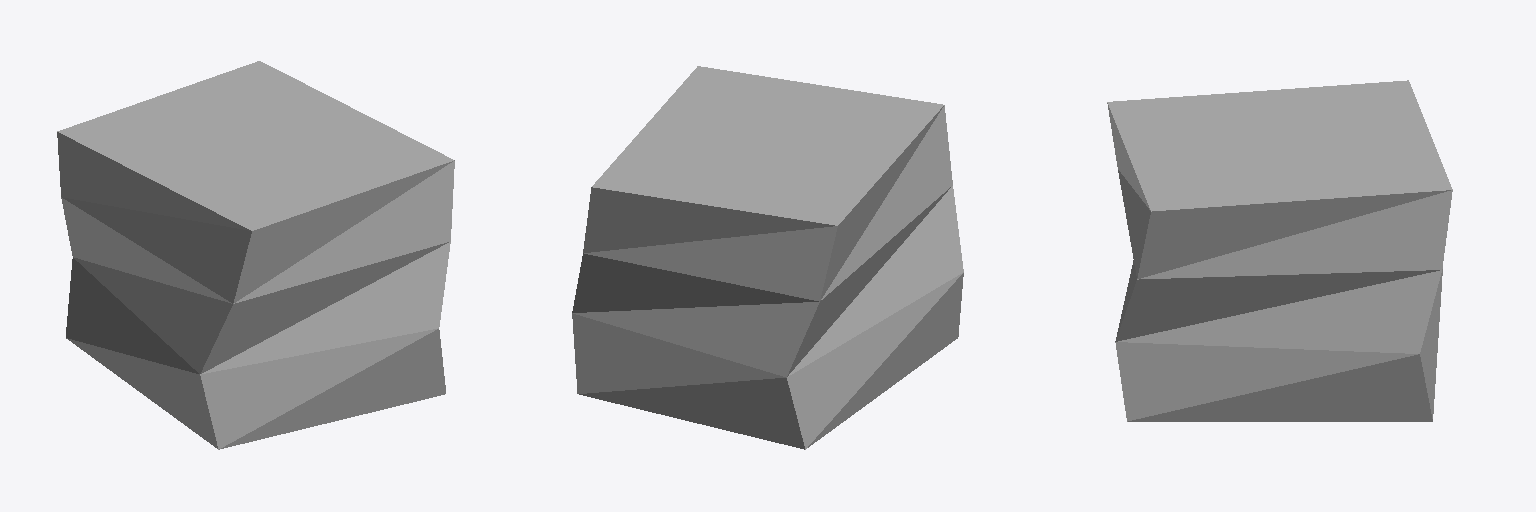
The model's file is papirkupac_nagy.obj.
3 views of the same model, side by side, from view 1: azimuth 30°, elevation 25°; view 2: azimuth 150°, elevation 25°; view 3: azimuth 270°, elevation 25° (orthographic).
Visible parts, largest first — view 1: papirkupac_nagy; view 2: papirkupac_nagy; view 3: papirkupac_nagy.
Part boxes in pixels (x1,y1,x2,y2): papirkupac_nagy: (57,61,454,449); papirkupac_nagy: (572,66,963,449); papirkupac_nagy: (1107,80,1452,421).
Size of the model in its own units: 26.79 by 20.95 by 29.82.